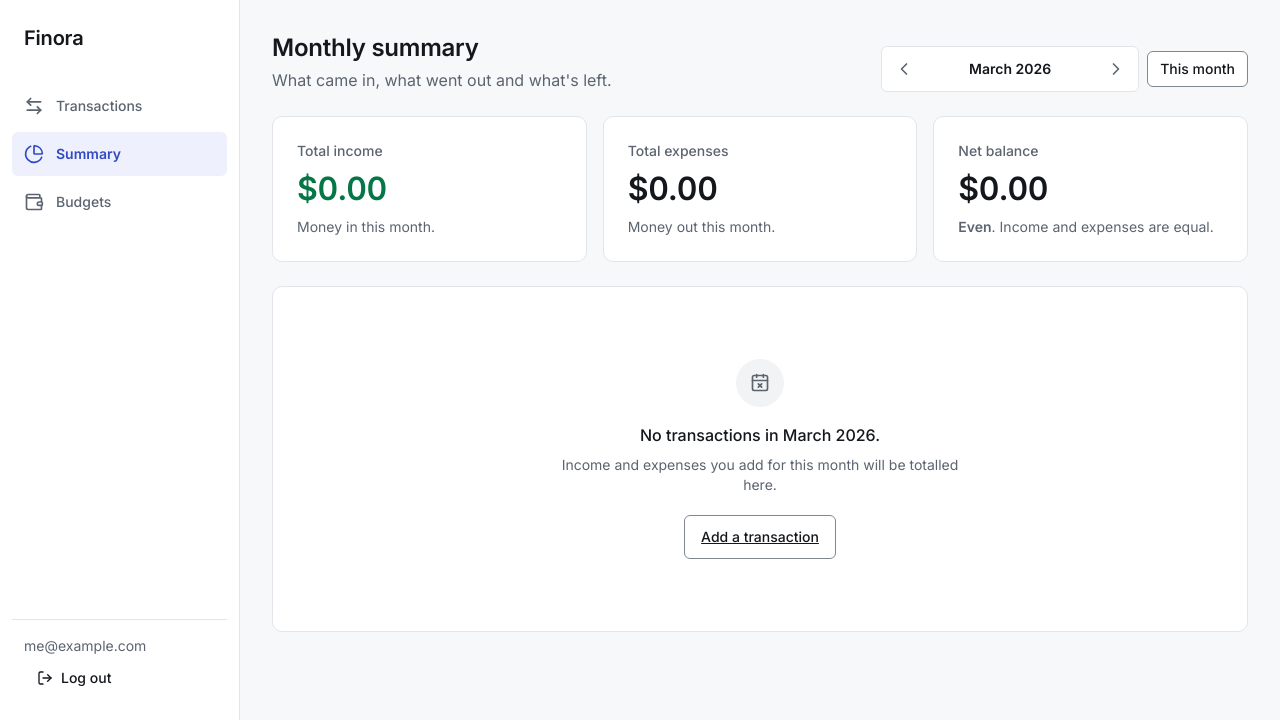
month selector (US-28) › offers This month when another month is showing, which goes back and clears the URL
Expected: the text "Total income" is shown, left=297, top=142, right=383, bottom=159
Click the button "This month": {"x": 1198, "y": 69} left=1147, top=51, right=1248, bottom=87
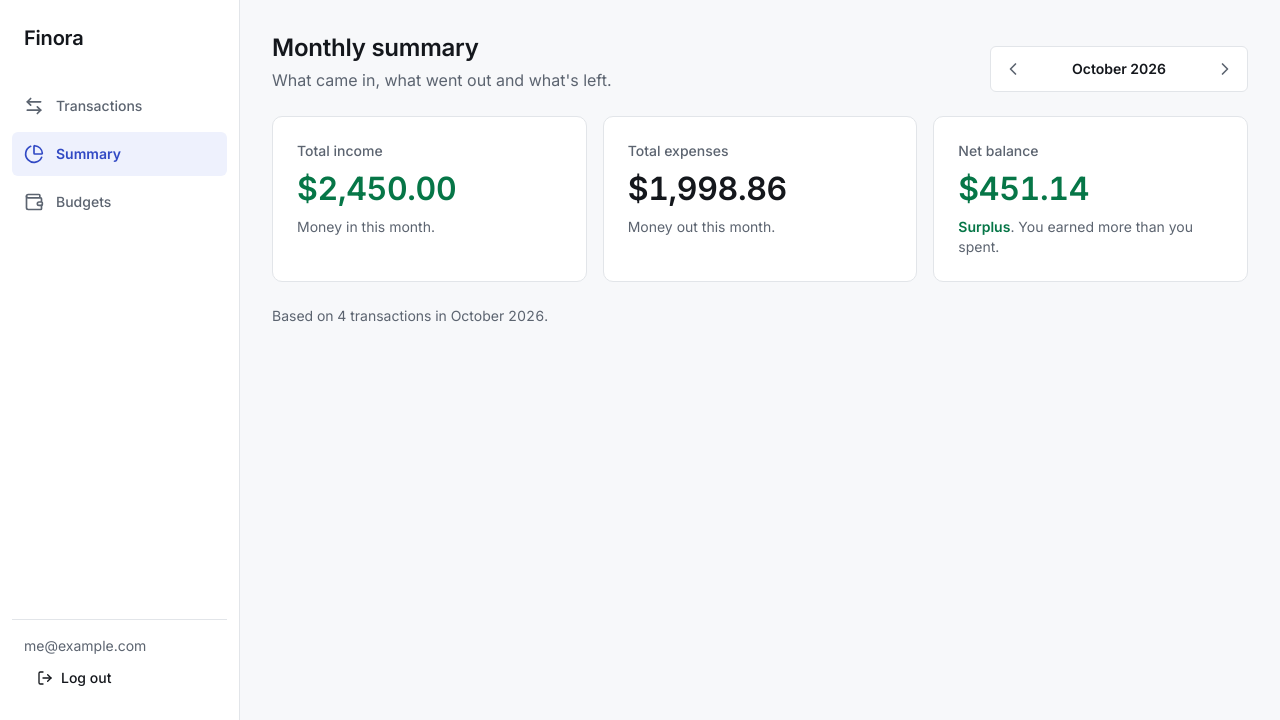
Expected: the text "October 2026" is shown, left=1072, top=60, right=1166, bottom=77
